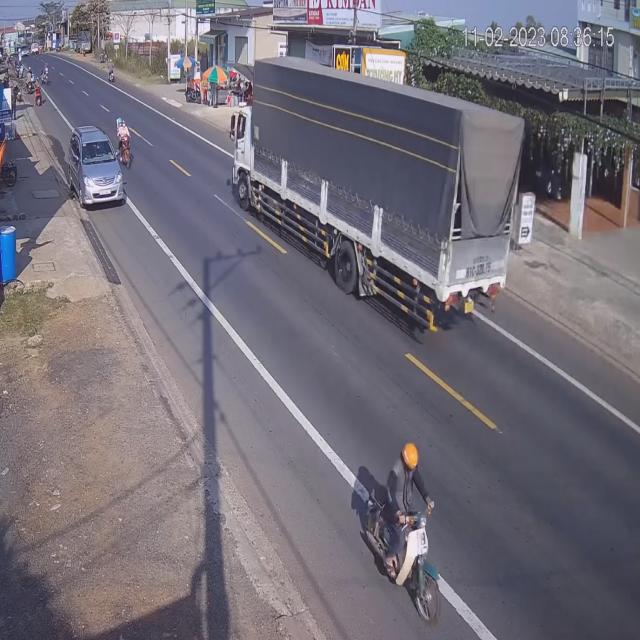car: (68, 129, 124, 211)
motorbike: (360, 448, 436, 627), (115, 116, 131, 168)
truck: (234, 58, 530, 337)
